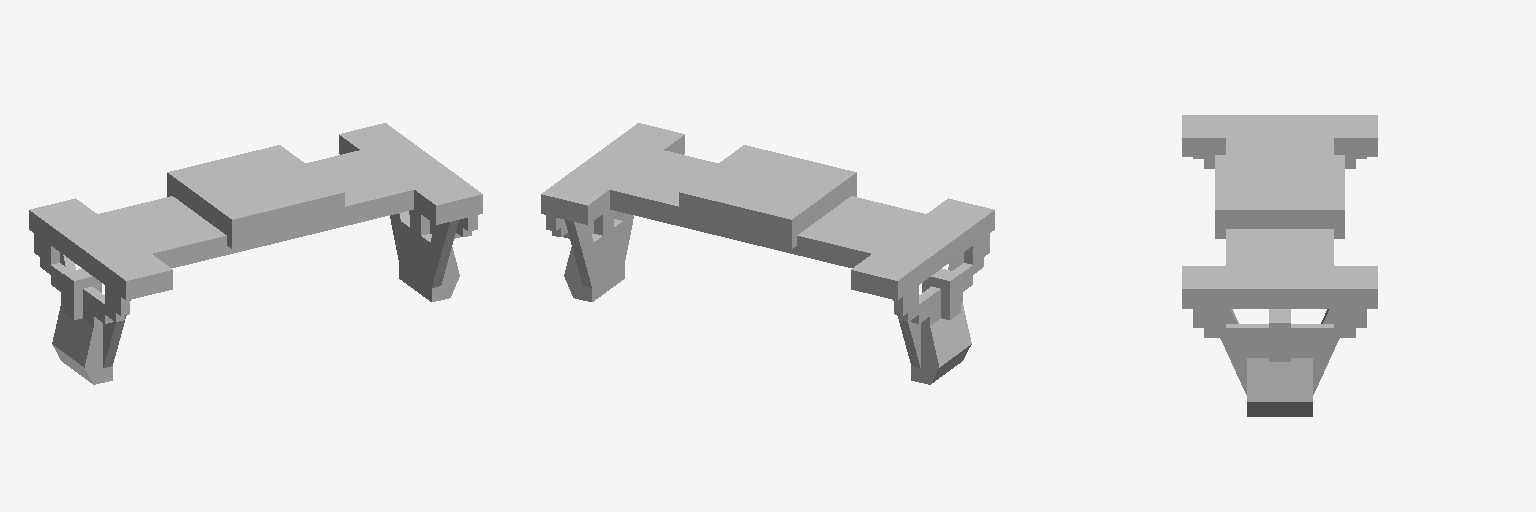
Rendered from leafspring_frame.obj.
The picture shows the model from 3 angles: view 1: azimuth 30°, elevation 25°; view 2: azimuth 150°, elevation 25°; view 3: azimuth 270°, elevation 25°; orthographic projection.
Visible parts, largest first — view 1: cube12, cube11, cube6, cube18, cube8, cube22, cube4, cube16, cube3, cube7, cube17; view 2: cube12, cube11, cube6, cube18, cube8, cube22, cube17, cube4, cube3, cube5, cube16; view 3: cube12, cube18, cube6, cube11, cube22, cube15, cube19, cube14, cube16, cube17, cube20, cube21.
Boxes of the visible parts, <box> form: cube12: <box>167,145,344,248</box>; cube11: <box>98,150,413,267</box>; cube6: <box>29,198,172,300</box>; cube18: <box>339,123,482,224</box>; cube8: <box>52,302,112,384</box>; cube22: <box>399,219,459,301</box>; cube4: <box>63,269,101,319</box>; cube16: <box>427,220,458,289</box>; cube3: <box>40,258,124,321</box>; cube7: <box>103,300,130,367</box>; cube17: <box>390,211,409,268</box>; cube12: <box>679,145,856,248</box>; cube11: <box>610,150,925,267</box>; cube6: <box>851,198,994,300</box>; cube18: <box>541,123,684,224</box>; cube8: <box>911,302,971,384</box>; cube22: <box>564,219,624,301</box>; cube17: <box>565,220,602,290</box>; cube4: <box>922,269,960,319</box>; cube3: <box>899,258,983,321</box>; cube5: <box>893,300,920,367</box>; cube16: <box>614,211,633,268</box>; cube12: <box>1215,155,1344,238</box>; cube18: <box>1182,266,1377,308</box>; cube6: <box>1182,115,1377,156</box>; cube11: <box>1226,138,1333,265</box>; cube22: <box>1247,358,1312,416</box>; cube15: <box>1204,324,1355,337</box>; cube19: <box>1269,309,1290,361</box>; cube14: <box>1226,338,1333,347</box>; cube16: <box>1220,309,1246,394</box>; cube17: <box>1313,309,1339,394</box>; cube20: <box>1193,309,1225,327</box>; cube21: <box>1334,309,1366,327</box>.
Size of the model in its own units: 2.5 by 0.9375 by 1.12.